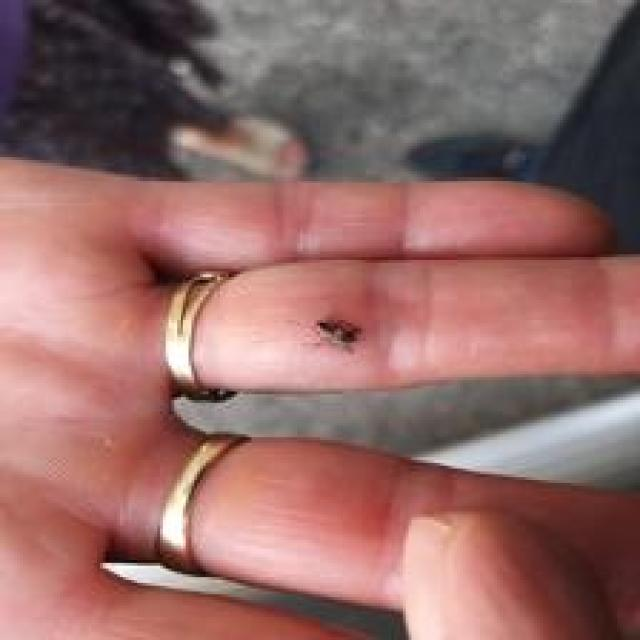Aedes albopictus: (0, 0, 314, 183)
